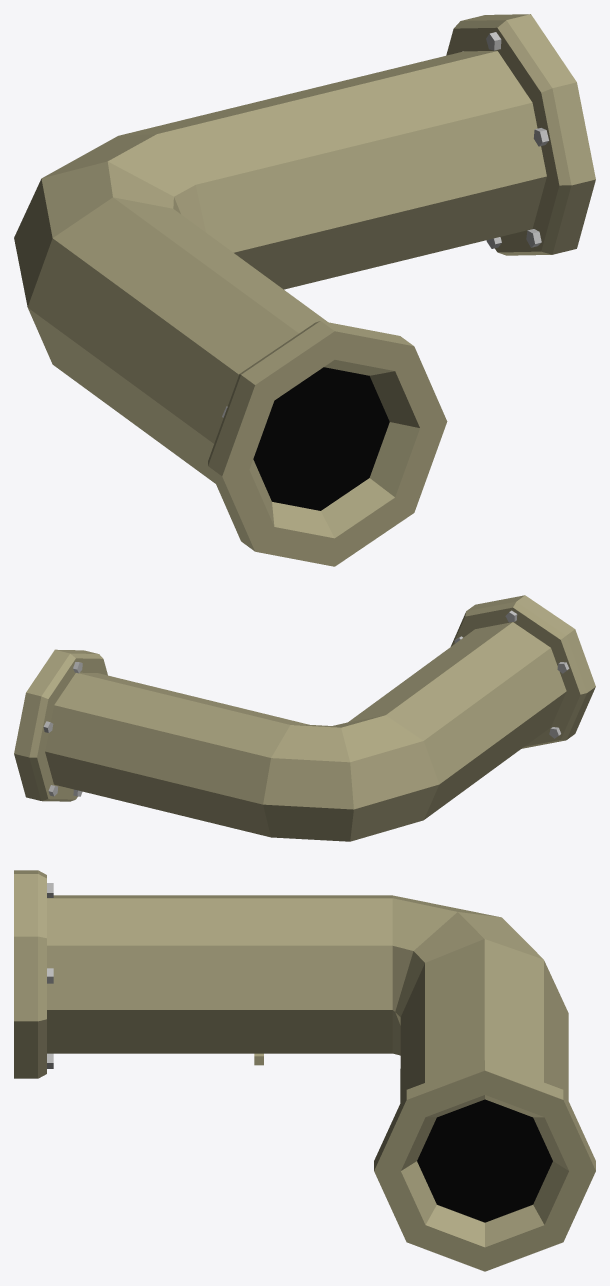
Rendered from Curved Pipe Long.glb.
3 renders of one model, top to bottom at view 1: azimuth 30°, elevation 25°; view 2: azimuth 150°, elevation 25°; view 3: azimuth 270°, elevation 25°, orthographic. The views are drawn at different scales.
Parts seen in each view (by area): view 1: LongCurvedPipe; view 2: LongCurvedPipe; view 3: LongCurvedPipe.
Part boxes in pixels (bbox=[...]): LongCurvedPipe: bbox=[14, 14, 595, 566]; LongCurvedPipe: bbox=[14, 595, 595, 841]; LongCurvedPipe: bbox=[14, 870, 595, 1271].
Size of the model in its own units: 6.85 by 2.64 by 6.92.
